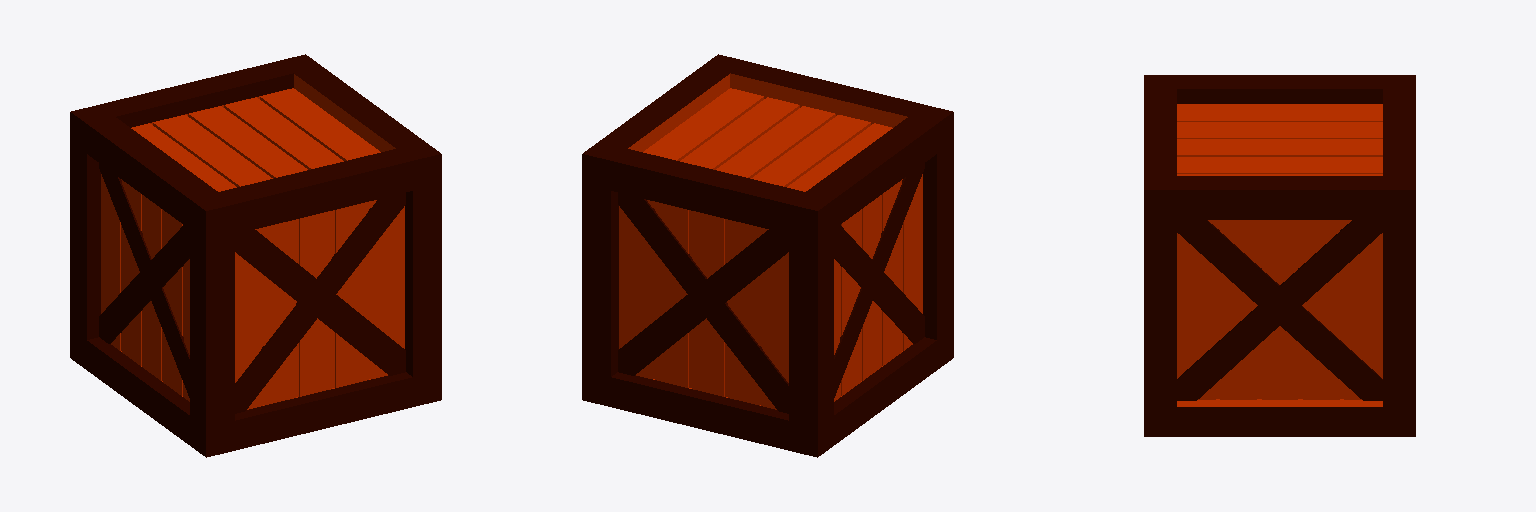
3 views of the same model, side by side, from view 1: azimuth 30°, elevation 25°; view 2: azimuth 150°, elevation 25°; view 3: azimuth 270°, elevation 25° (orthographic).
Visible parts, largest first — view 1: barrel.002; view 2: barrel.002; view 3: barrel.002.
Part boxes in pixels (x1,y1,x2,y2): barrel.002: (70, 54, 441, 457); barrel.002: (582, 54, 953, 457); barrel.002: (1144, 75, 1415, 436).
Bounding box in the file's own units: 0.9602 × 0.9602 × 0.9602.